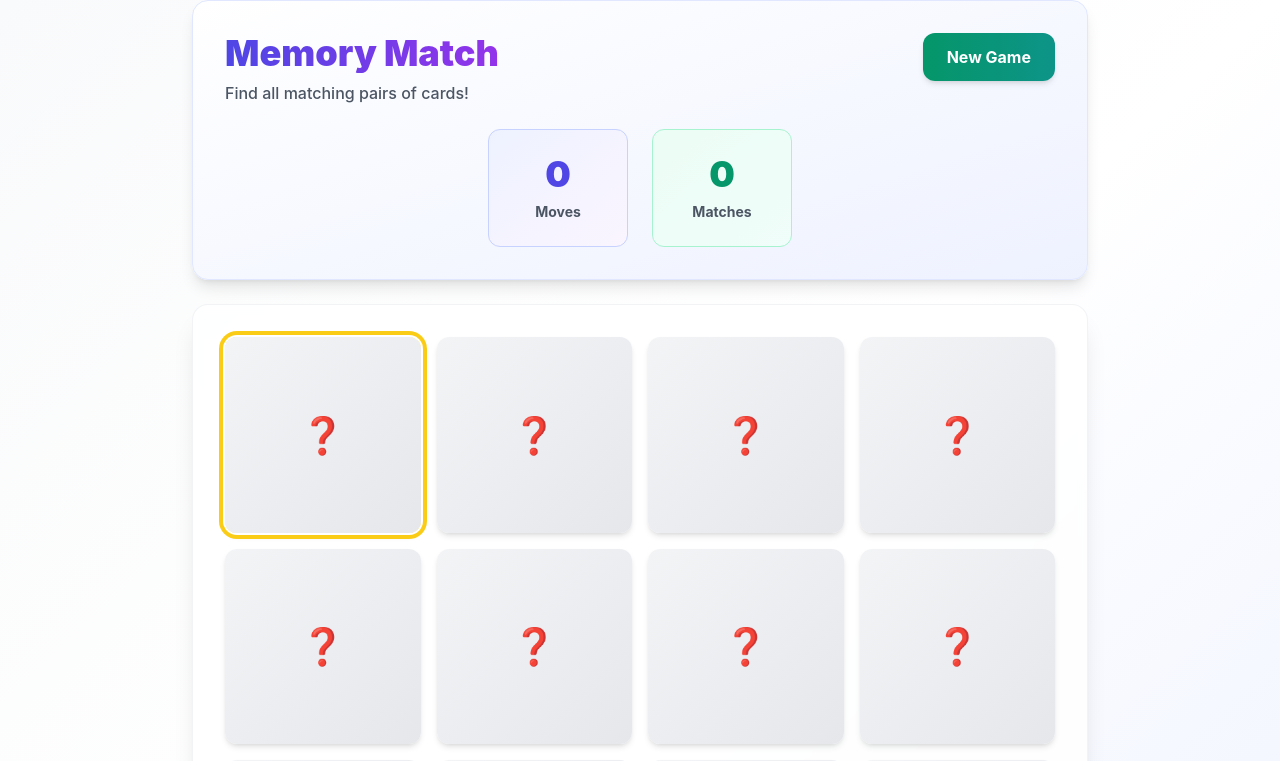
Test case: MemoryMatch Game › Game Completion › resets game when New Game is clicked
The width and height of the screenshot is (1280, 761).
Step 1. Click the 1st button "❓" → (323, 435), box [225, 337, 420, 532]
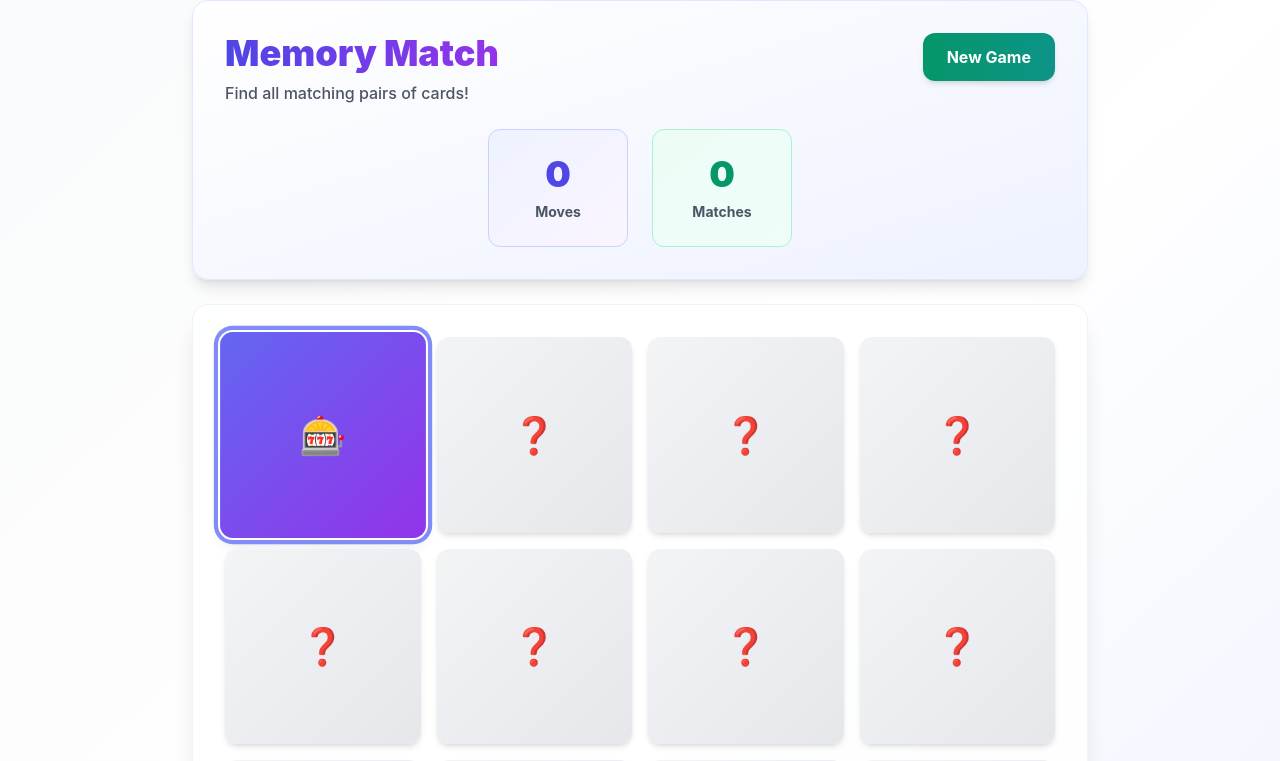
Step 2. Click the 1st button "❓" → (534, 435), box [436, 337, 632, 532]
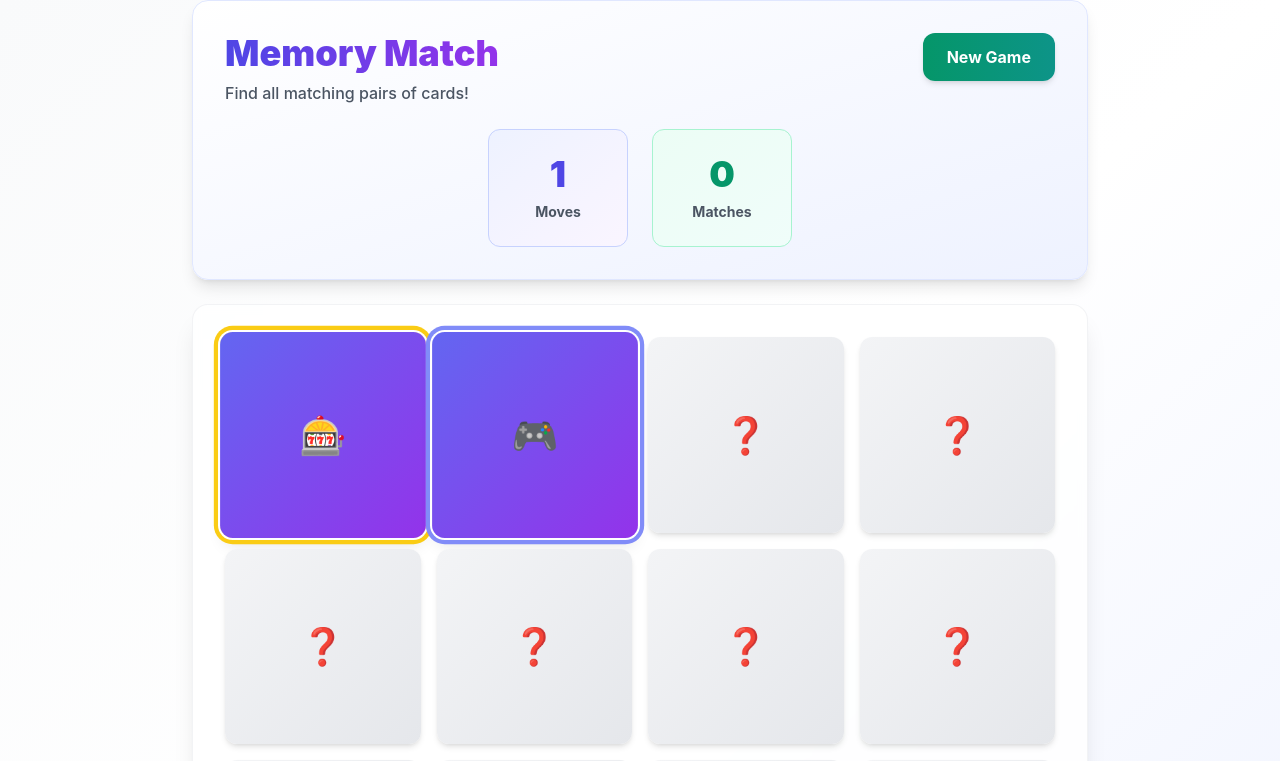
Step 3. Click the button "New Game" → (989, 57), box [923, 33, 1055, 81]
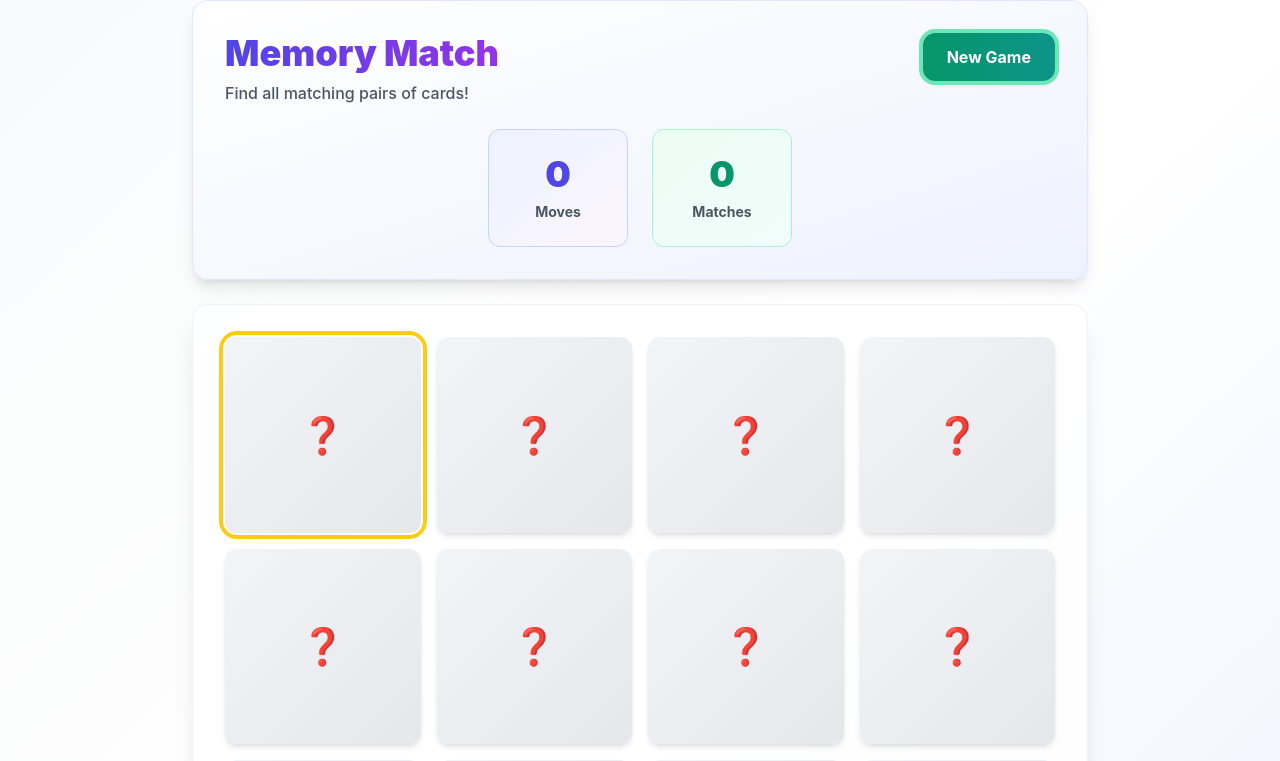
Result: the text with test id "moves-count" reads "0" at [545, 152, 571, 196]
